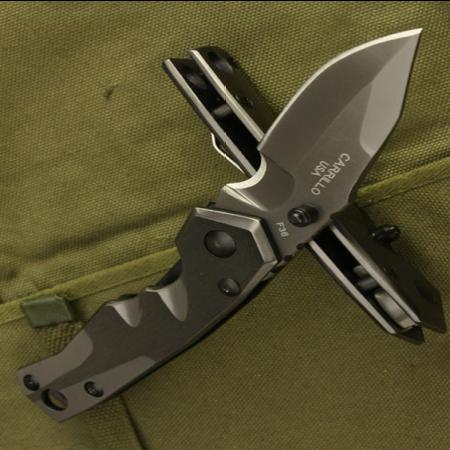long weapon: (233, 22, 429, 238)
